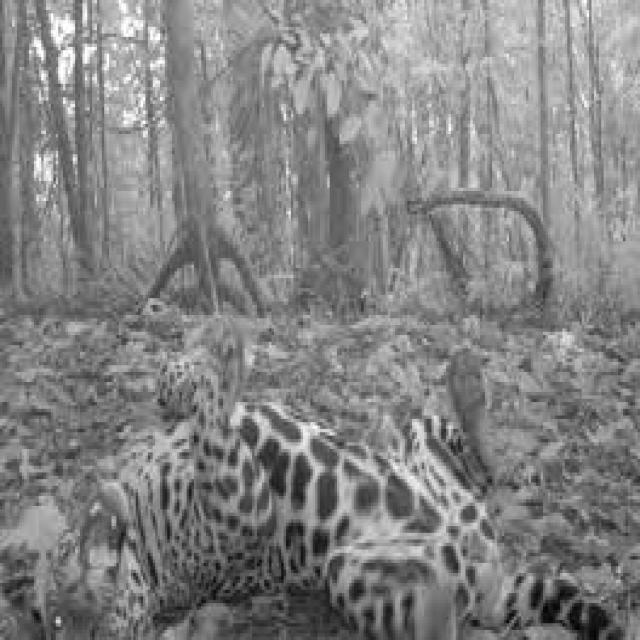Jaguar: (0, 345, 628, 640)
